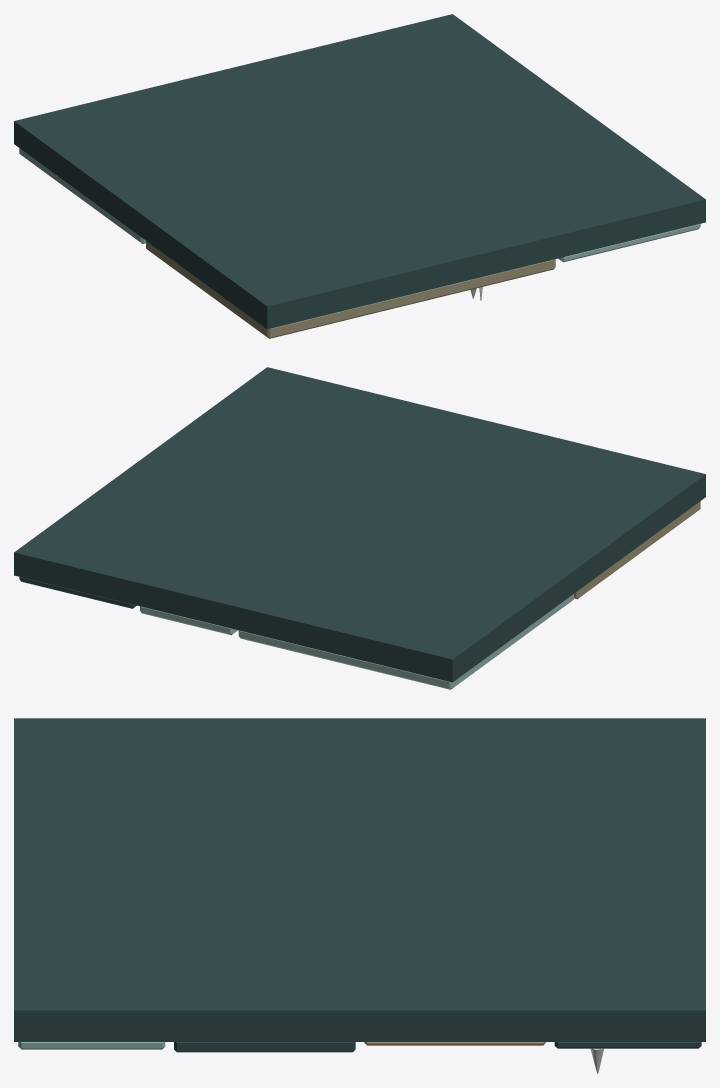
Rendered from ceil_dr_plain.glb.
3 views of the same model, one above another, from view 1: azimuth 30°, elevation 25°; view 2: azimuth 150°, elevation 25°; view 3: azimuth 270°, elevation 25° (orthographic). The views are drawn at different scales.
Visible parts, largest first — view 1: ceil_dr_plain; view 2: ceil_dr_plain; view 3: ceil_dr_plain.
Part boxes in pixels (box(x1,y1,x2,y2)): ceil_dr_plain: box(14, 14, 705, 338); ceil_dr_plain: box(14, 367, 705, 689); ceil_dr_plain: box(14, 718, 705, 1073).
Size of the model in its own units: 4 by 0.8544 by 4.
